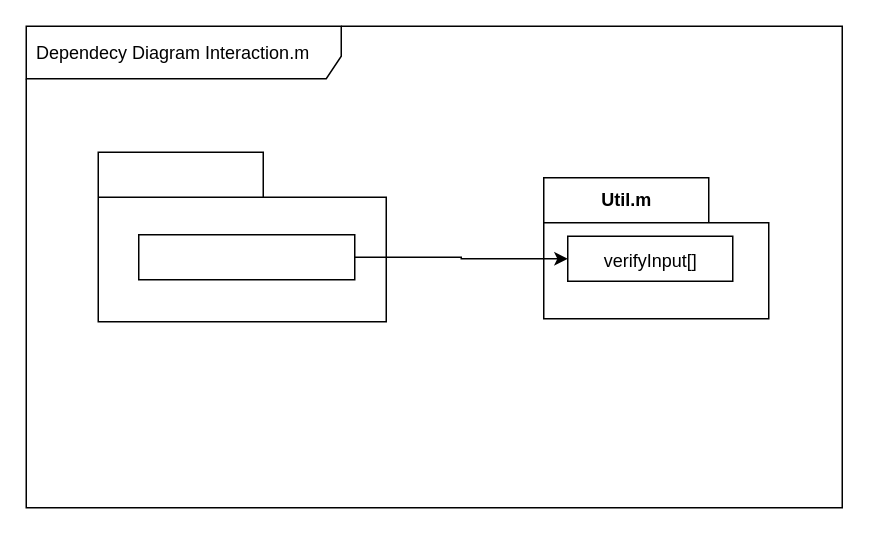
This 869x534 diagram has some shape labels left out. The shapes that lost their labels are listed below. From the top down, each one's box as (x1, y1, x2, y2) in pixels, then its label:
(97, 151, 386, 322): Interaction.m
(137, 233, 355, 280): placeUserShip[]
